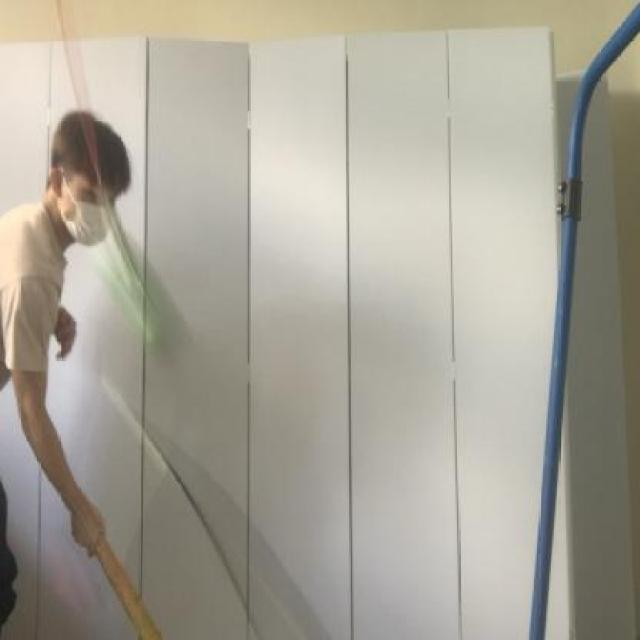baseball: (92, 213, 191, 355)
